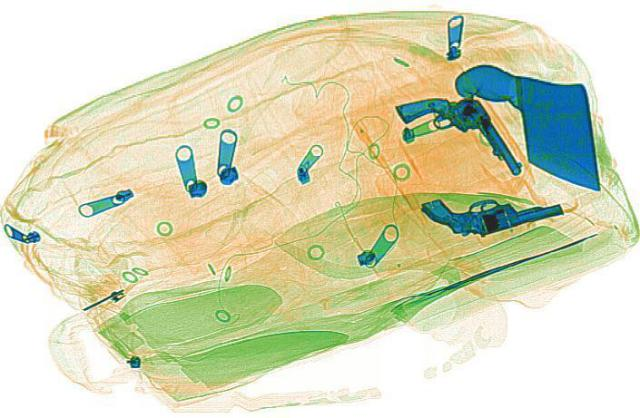Gun: (390, 86, 526, 189), (414, 171, 568, 245)
Knife: (450, 58, 600, 195)
